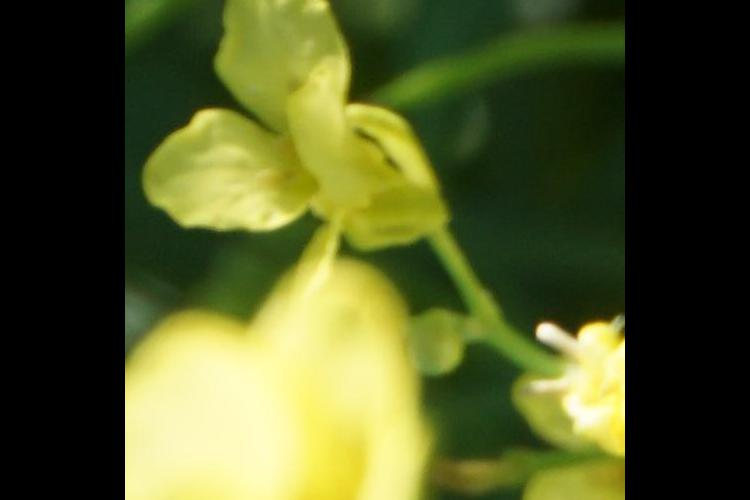yellow: (164, 1, 451, 239), (516, 307, 622, 500)
